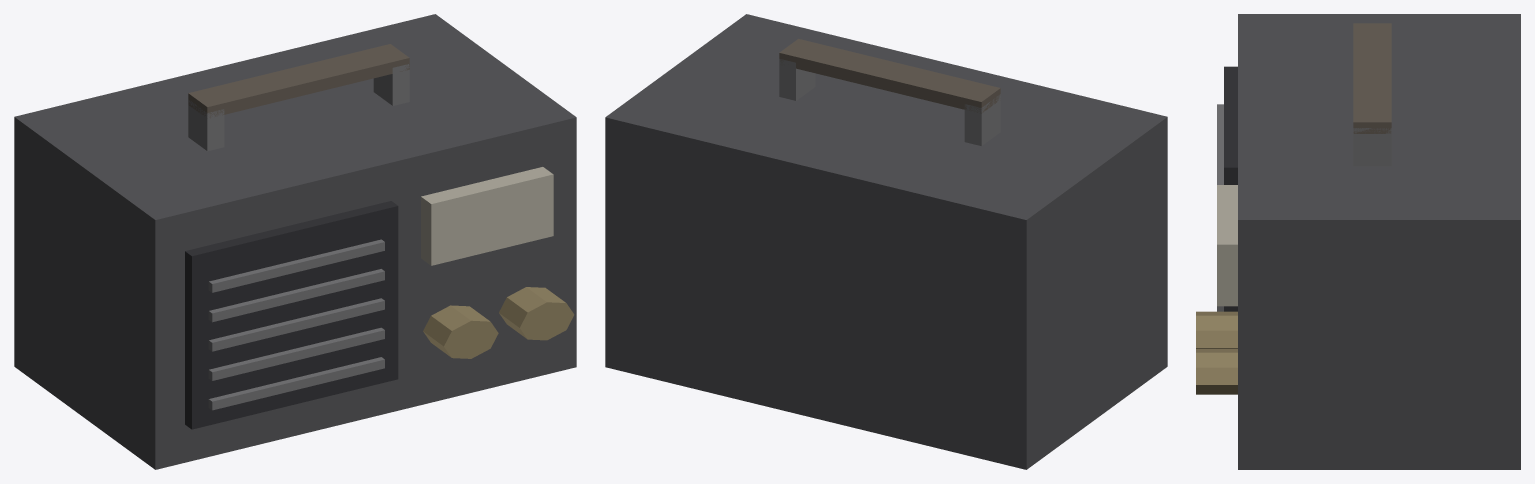
File: radio.glb
3 views of the same model, side by side, from view 1: azimuth 30°, elevation 25°; view 2: azimuth 150°, elevation 25°; view 3: azimuth 270°, elevation 25° (orthographic).
Visible parts, largest first — view 1: radio; view 2: radio; view 3: radio.
Part boxes in pixels (box(x1,y1,x2,y2)): radio: box(14, 14, 576, 469); radio: box(605, 14, 1167, 469); radio: box(1196, 14, 1520, 469).
Bounding box in the file's own units: 0.45 × 0.3 × 0.3.
